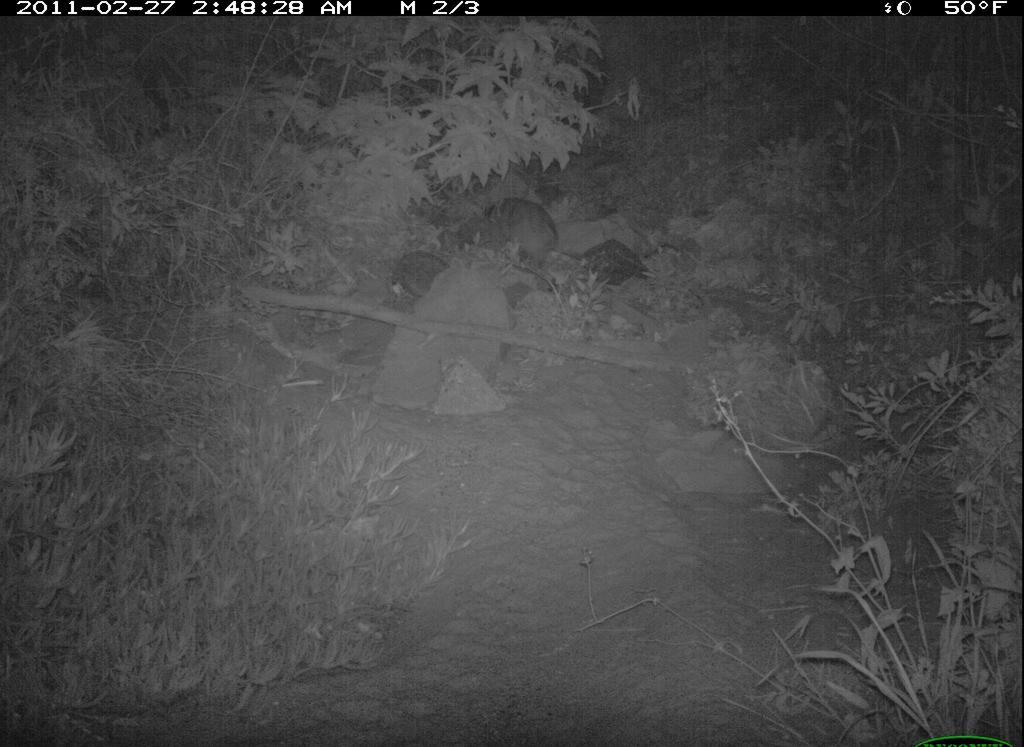raccoon: (477, 185, 570, 286)
